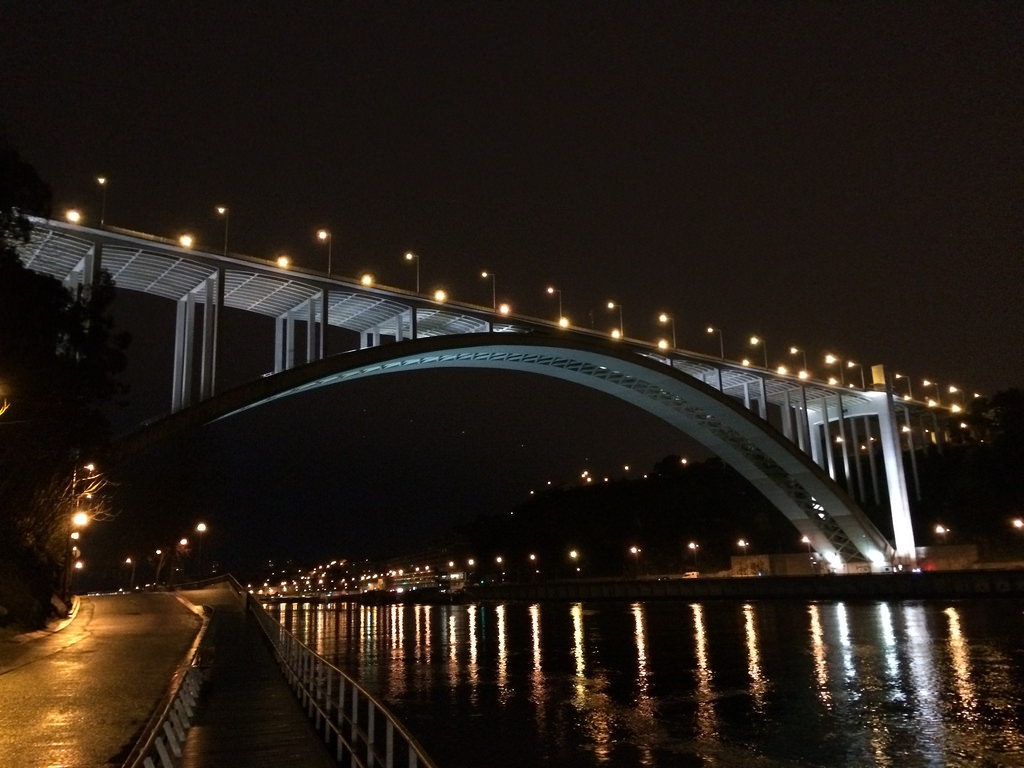arrabida: (0, 206, 979, 578)
